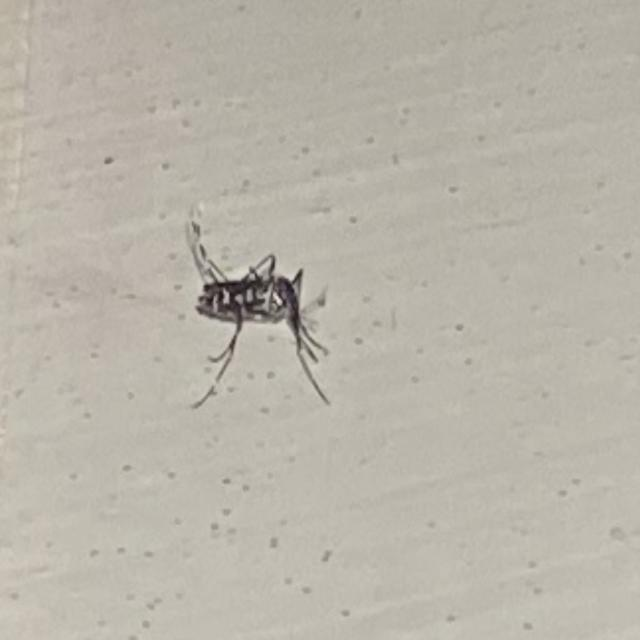albopictus: (168, 198, 342, 414)
